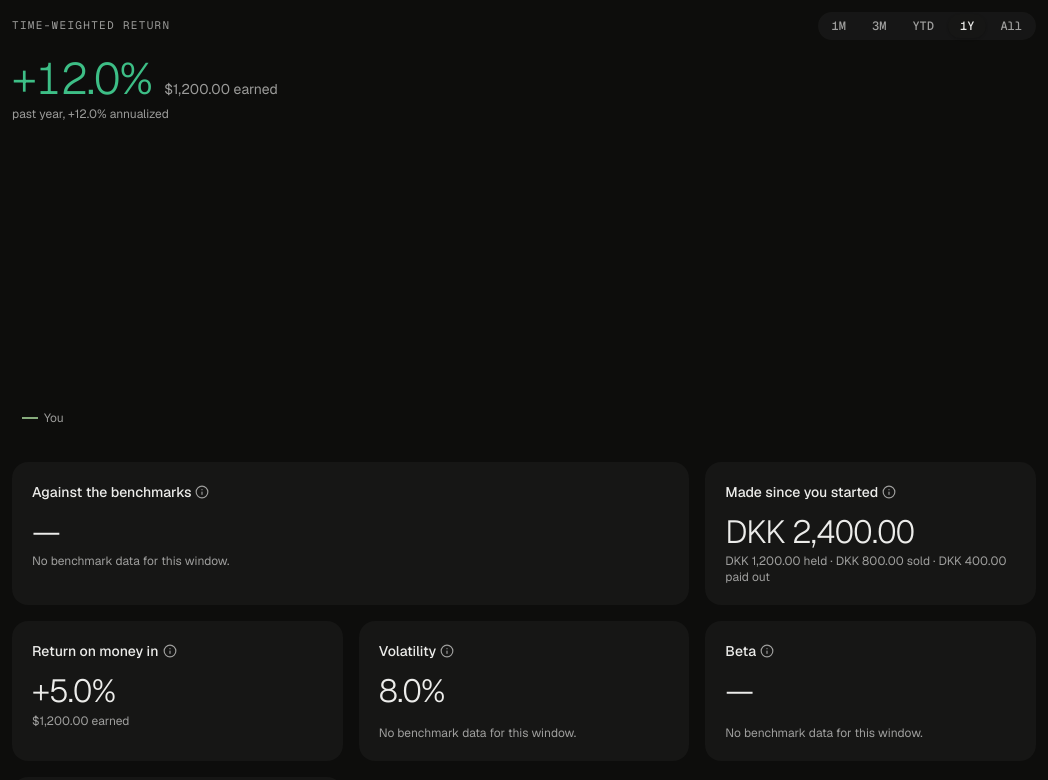
PerformanceStudio › fetches the new range key when the segmented control changes
The image size is (1048, 780).
Expected: the text "+12.0%" is shown, [12,56,152,102]
Click the radio button labelled "3M".
click(879, 26)  # box [860,14,898,38]
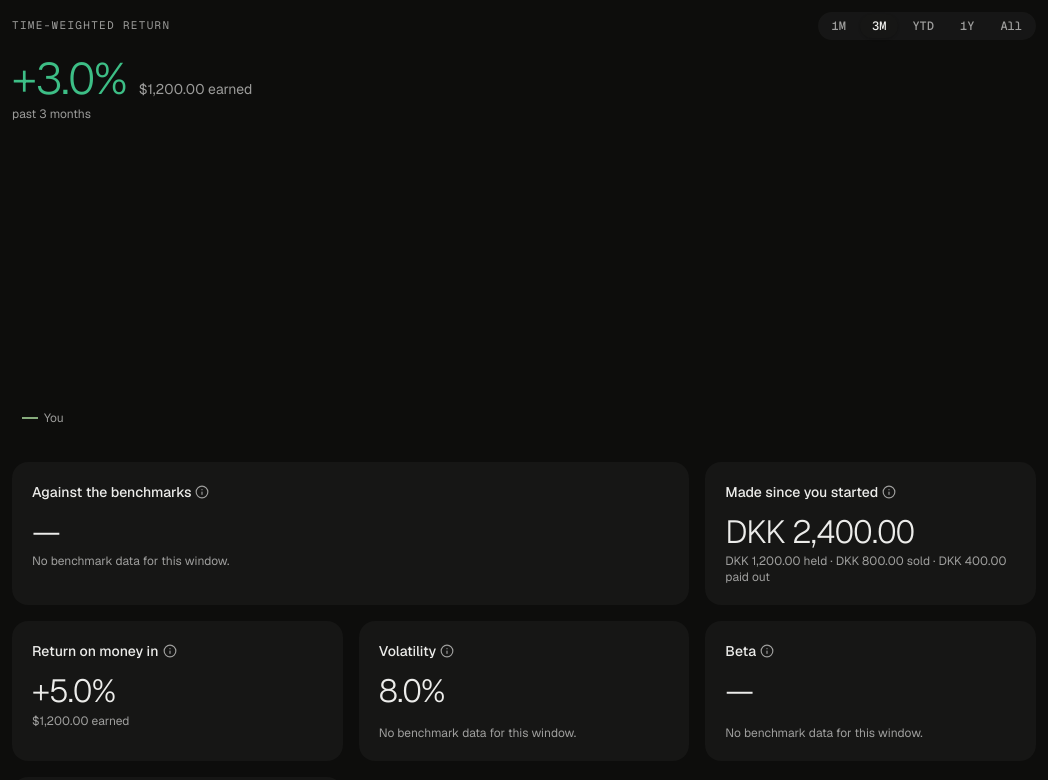
Expected: the text "+3.0%" is shown, [12,56,127,102]
